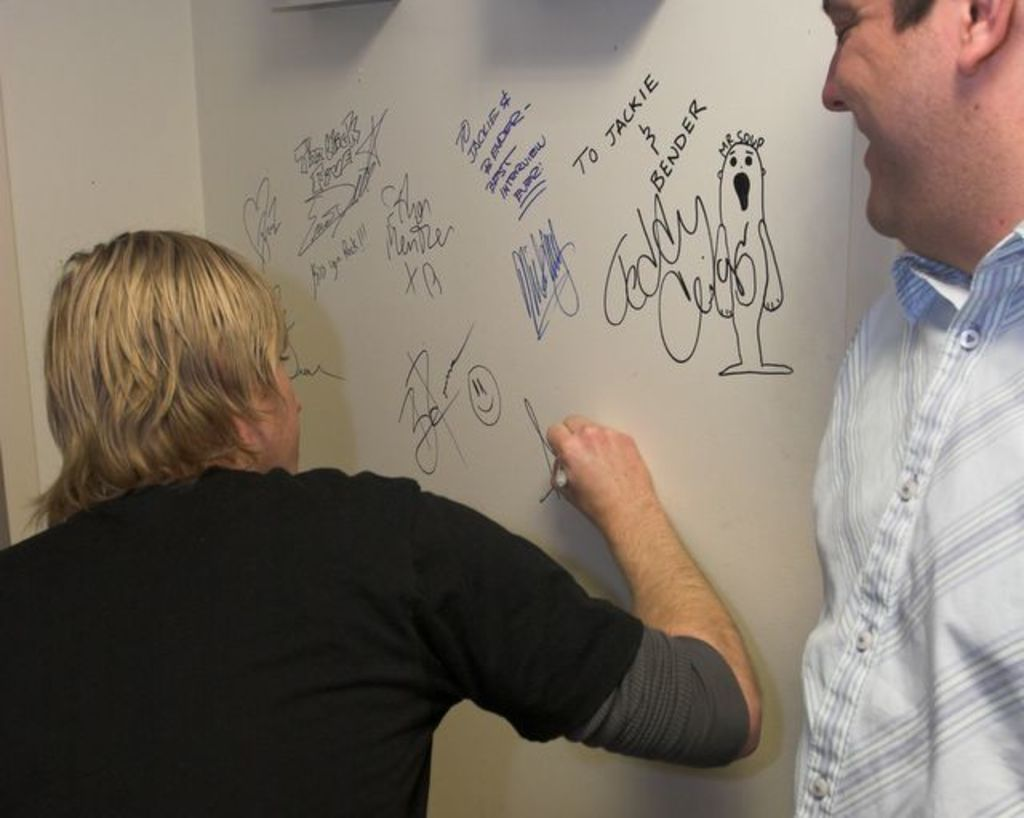Human_hand: (542, 402, 651, 528)
